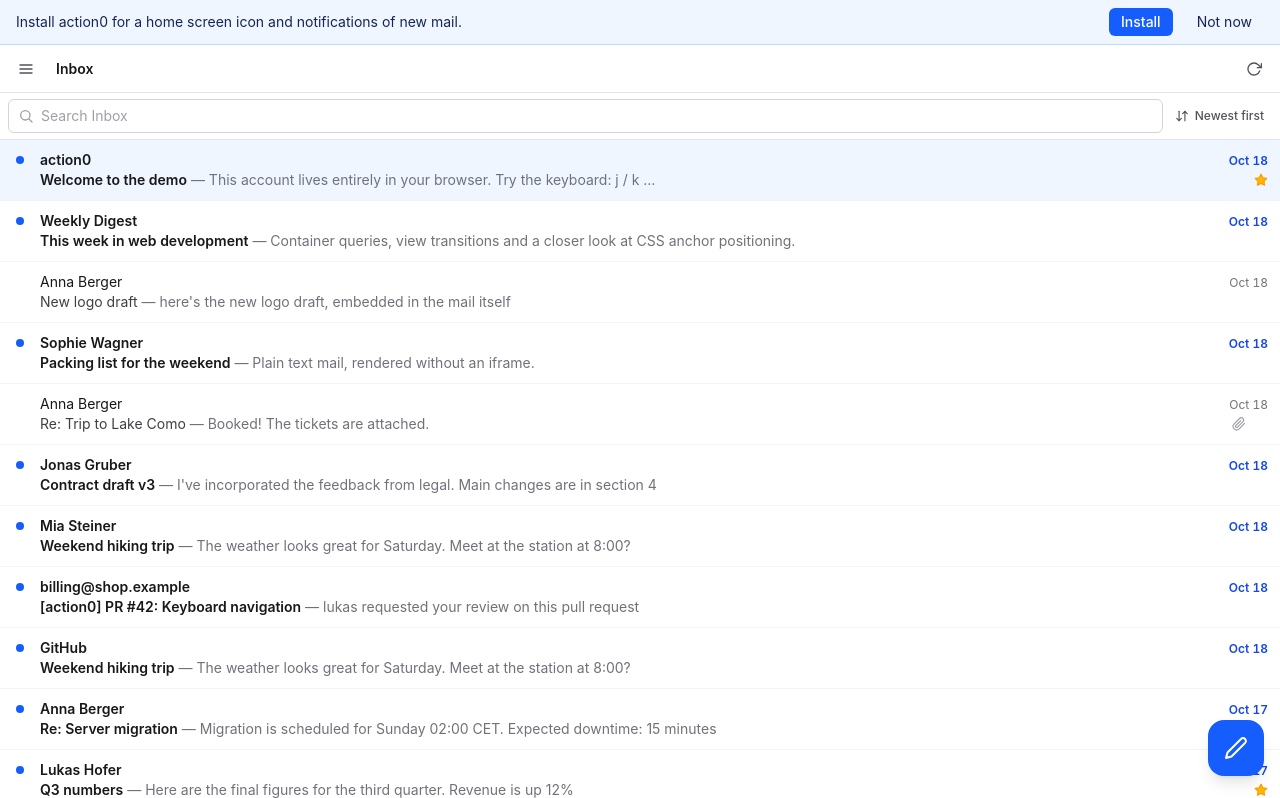
Test: the installable web app › offers installing once on phones
The width and height of the screenshot is (1280, 798).
What coordinates should you click on to do the following:
click the button "Install"
I would click on:
 (1141, 22)
Its box is x1=1109 y1=8 x2=1173 y2=36.
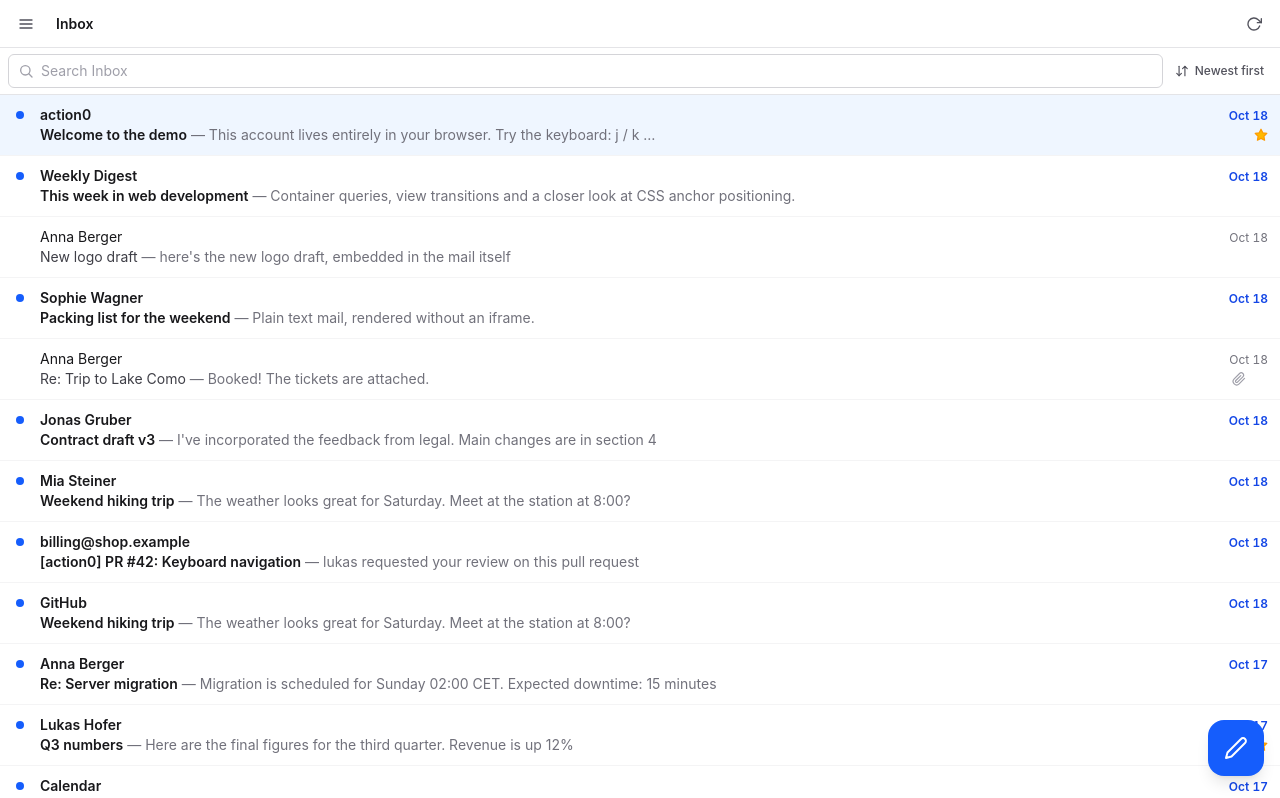
Expected: the text "Install action0 for a home screen icon and notifications of new mail." is gone
